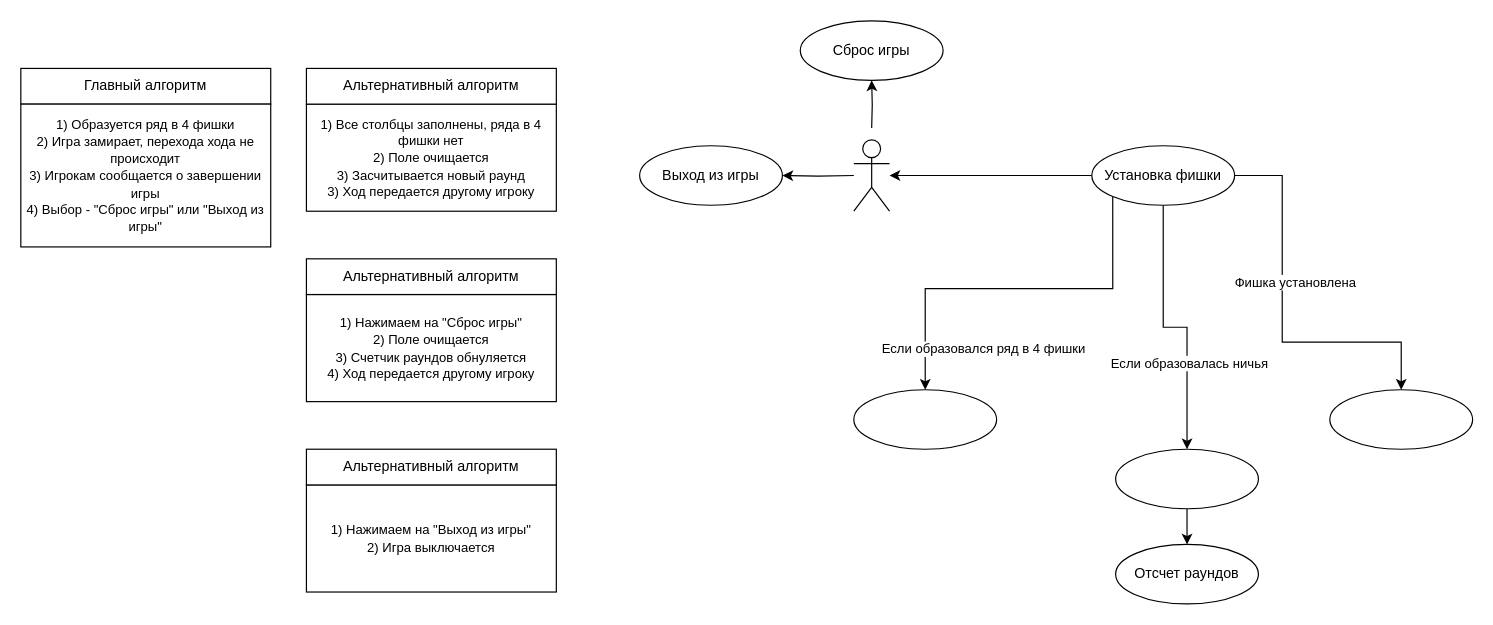
The diagram is 1493 pixels wide and 625 high, and some of its shapes have lost their labels. Here are the shapes that lost their labels. From the top down, the centre of each, then its label:
At [871,175]: "Игрок".
At [925,419]: "Завершение игры".
At [1401,419]: "Переход хода".
At [1186,478]: "Очистка поля".
